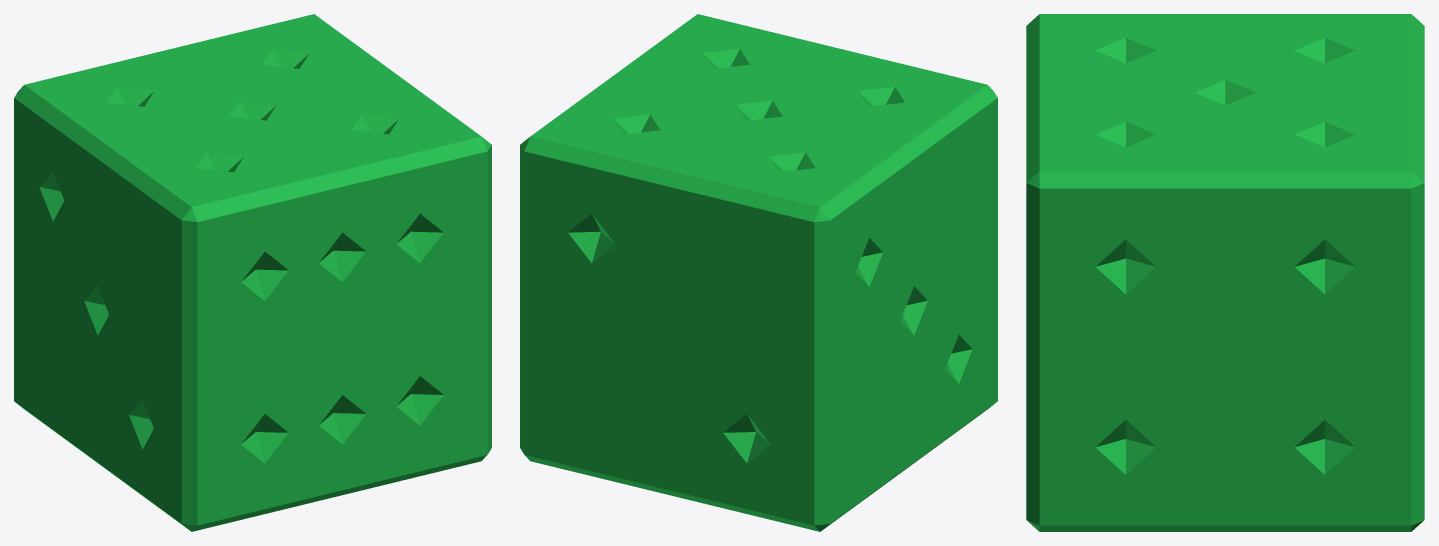
Rendered from dice.obj.
3 renders of one model, left to right at view 1: azimuth 30°, elevation 25°; view 2: azimuth 150°, elevation 25°; view 3: azimuth 270°, elevation 25°, orthographic. The views are drawn at different scales.
Parts seen in each view (by area): view 1: Object.1; view 2: Object.1; view 3: Object.1.
Boxes of the visible parts, x1,y1,x2,y2 form: Object.1: (14, 14, 491, 531); Object.1: (520, 14, 997, 531); Object.1: (1026, 14, 1424, 531).
Size of the model in its own units: 0.2816 by 0.2816 by 0.2816.
